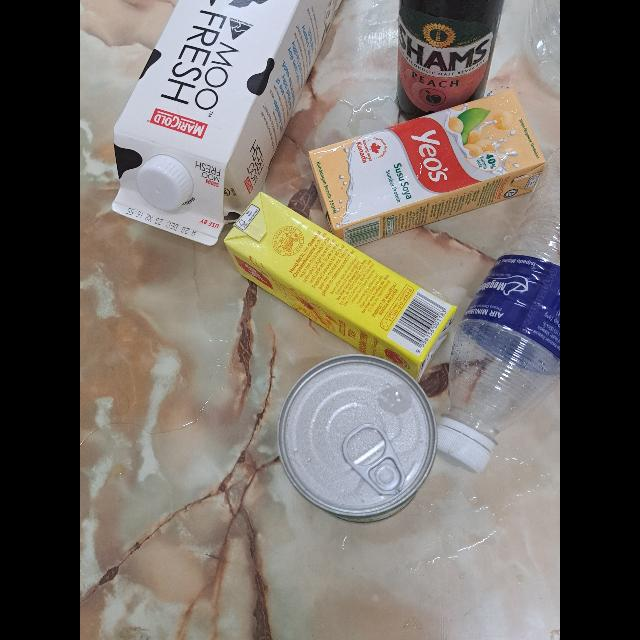aba de lata: (342, 424, 406, 498)
caixinha: (109, 0, 343, 246), (225, 191, 458, 383), (308, 89, 546, 247)
garrafa de vidro: (394, 0, 504, 120)
garrafa plástica: (442, 148, 560, 438)
lata: (278, 355, 436, 525)
tampa plástica: (137, 154, 193, 213), (434, 424, 492, 476)
